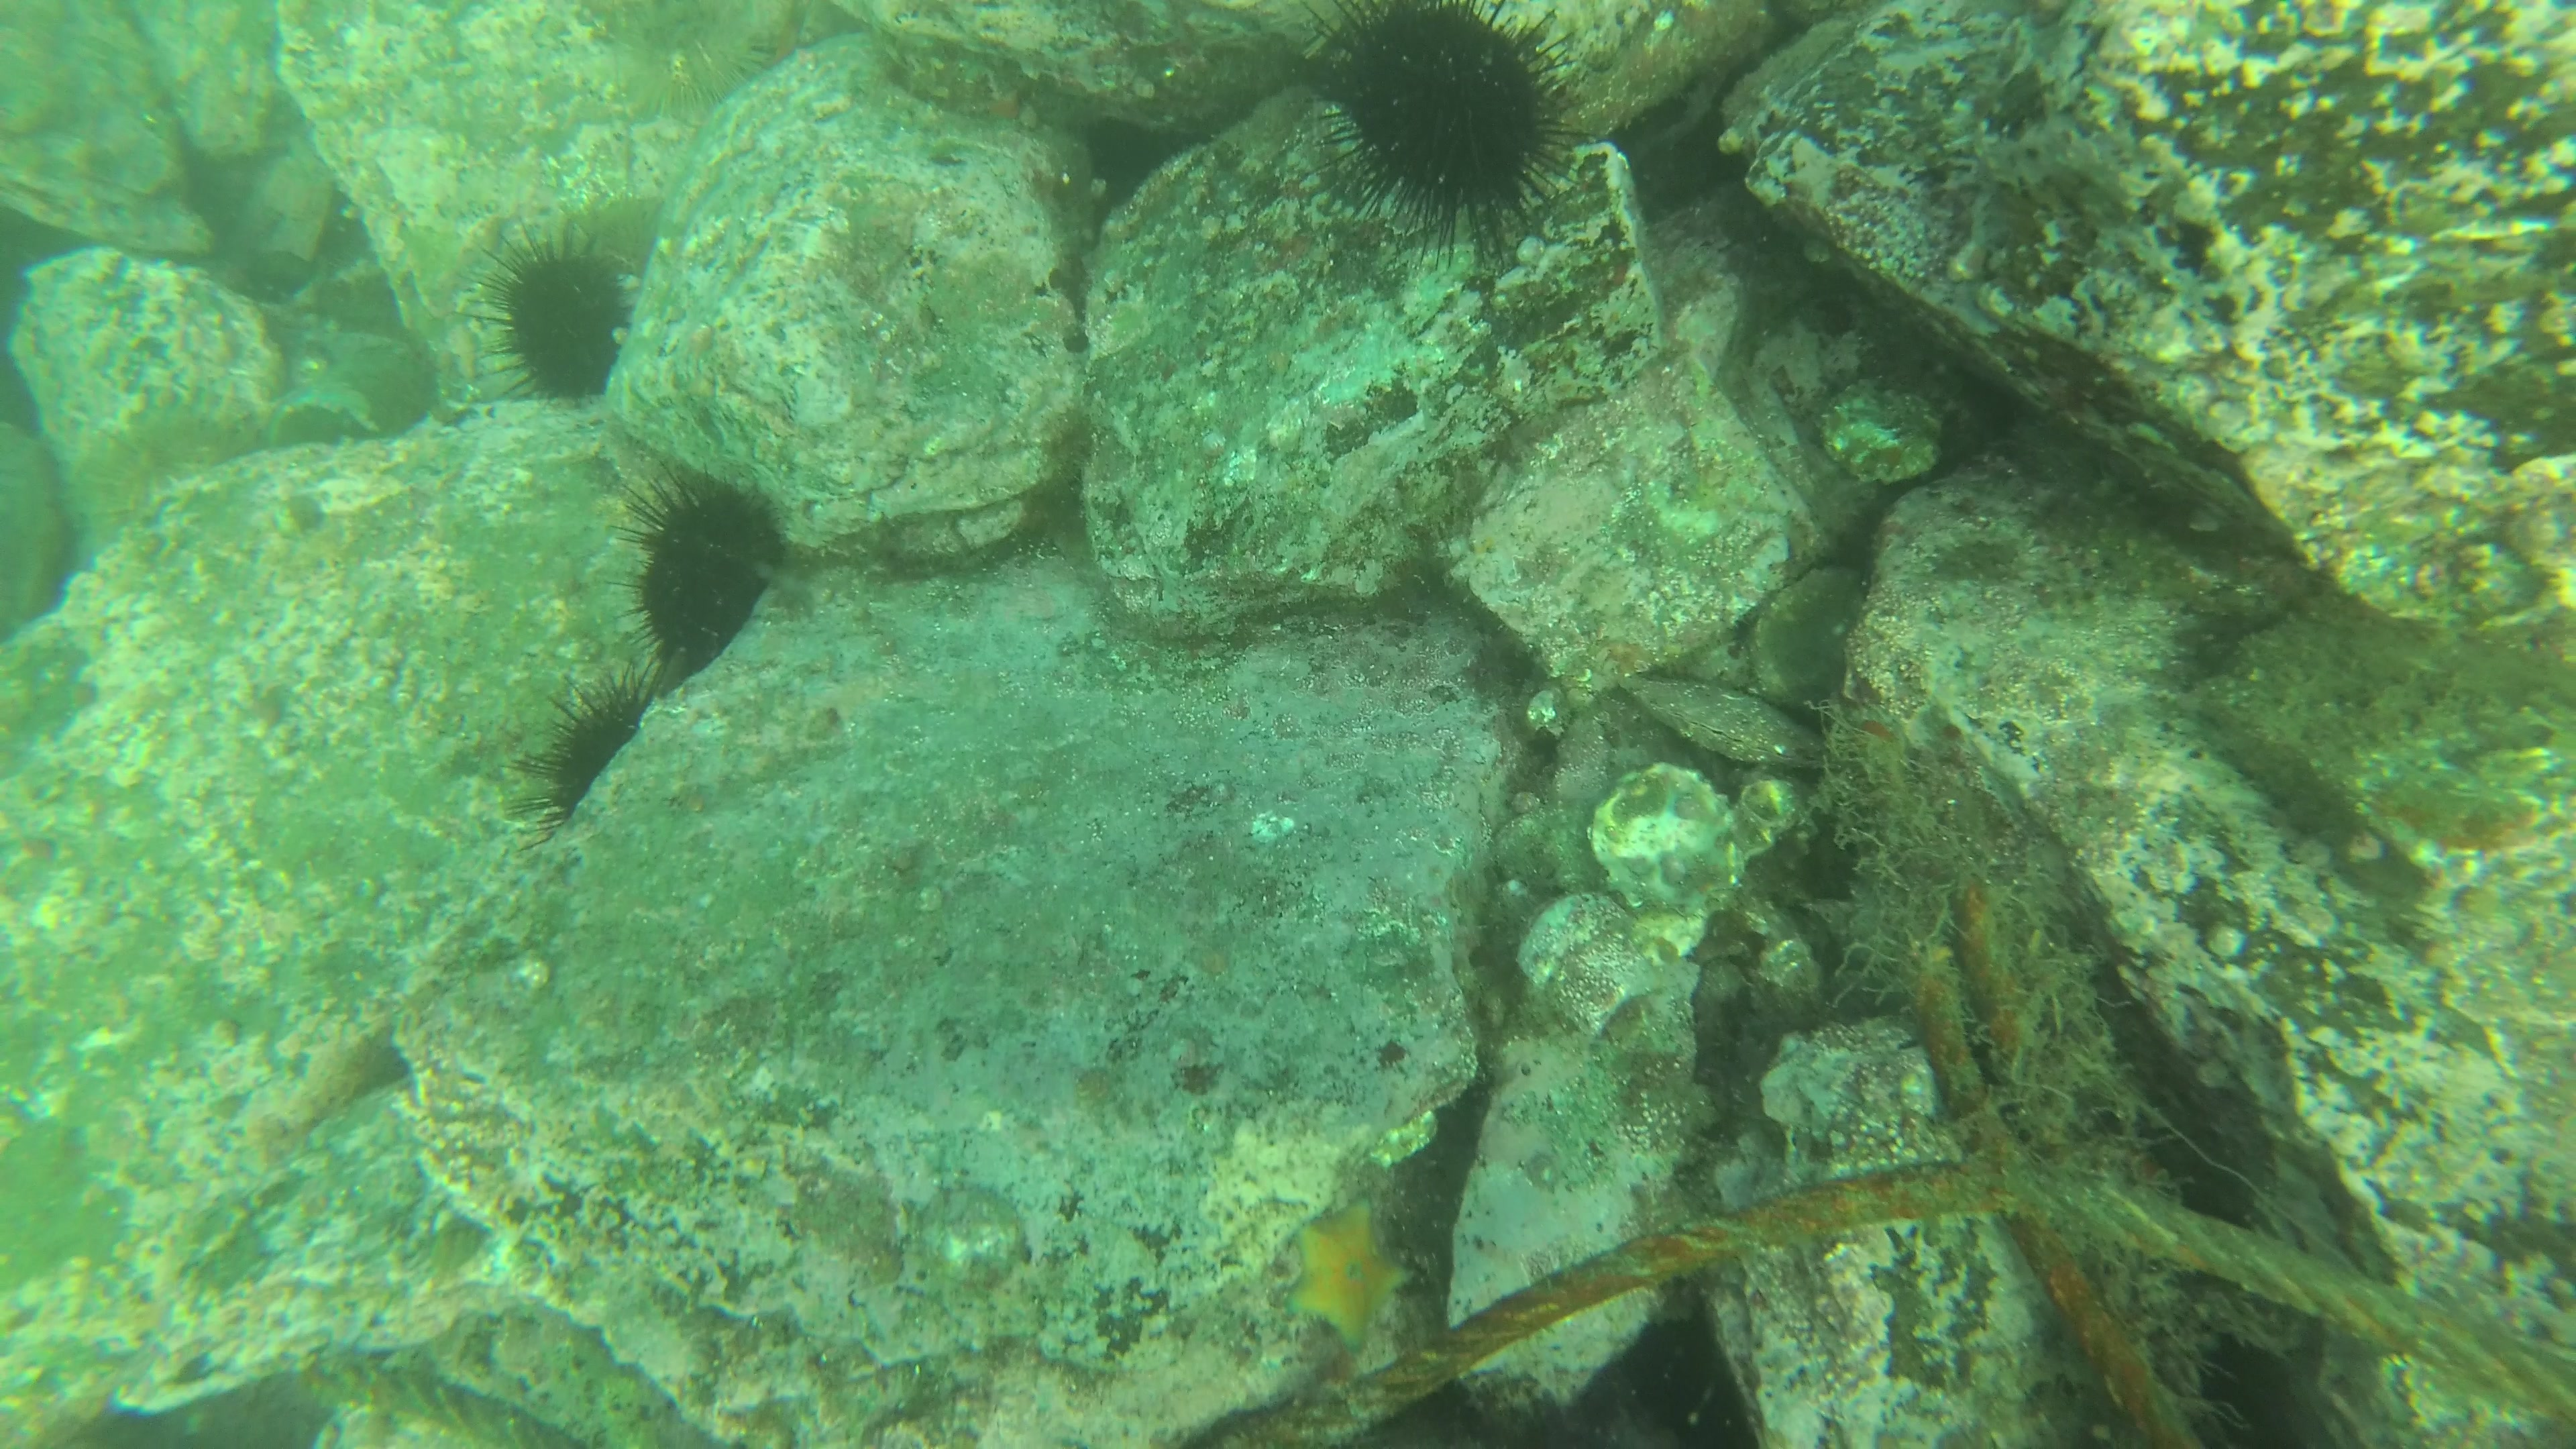echinus: (1302, 0, 1575, 264), (598, 469, 791, 662), (465, 225, 642, 412), (62, 400, 251, 534), (515, 678, 663, 844)
scallop: (1585, 757, 1760, 913), (1813, 377, 1951, 481)
starfish: (1284, 1198, 1419, 1343)
